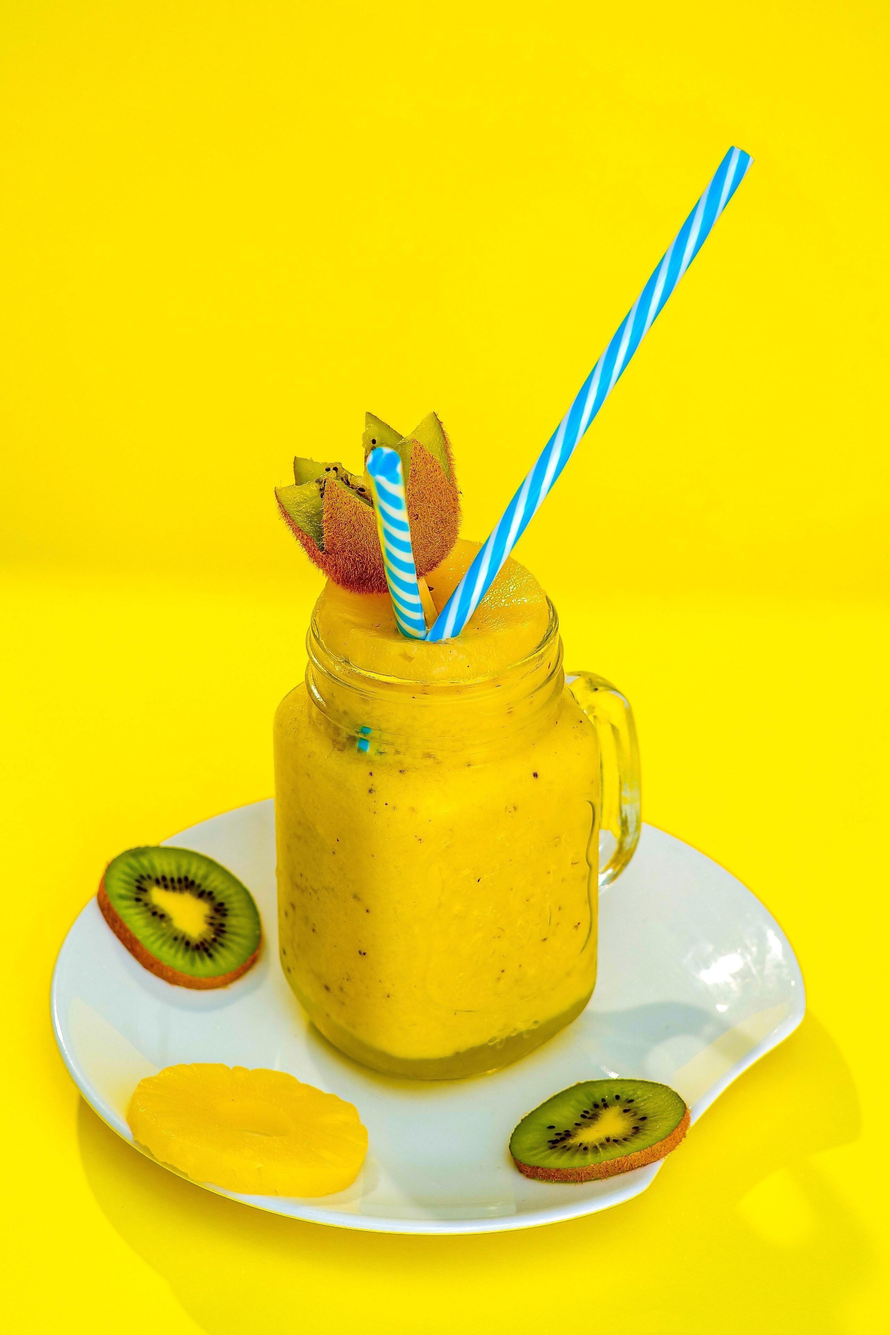glass-mug: (265, 526, 649, 1093)
